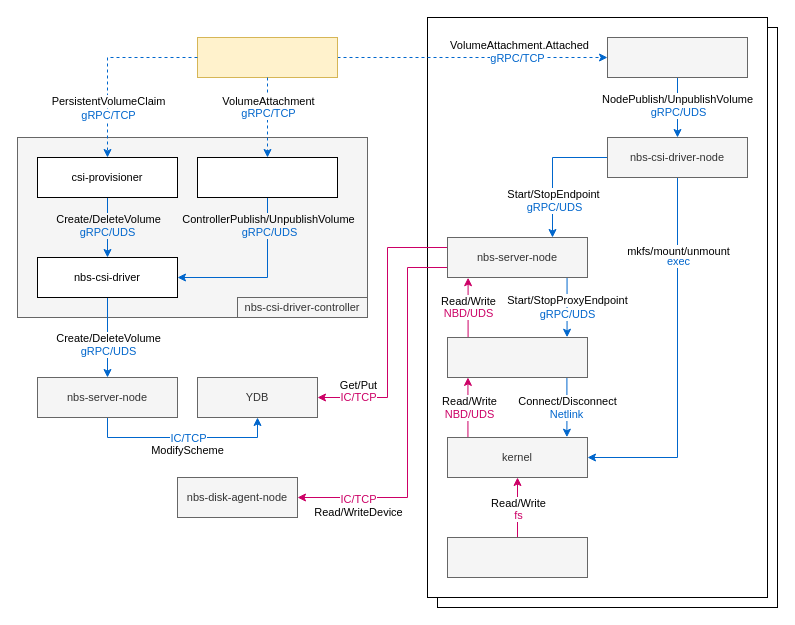
This 795x625 diagram has some shape labels left out. The centre of each missing label's shape, as x and y in pixels:
csi-attacher: pixel 267 177
kube-api: pixel 267 57
kubelet: pixel 677 57
nbs-endpoint-proxy-node: pixel 517 357
user-pod: pixel 517 557
